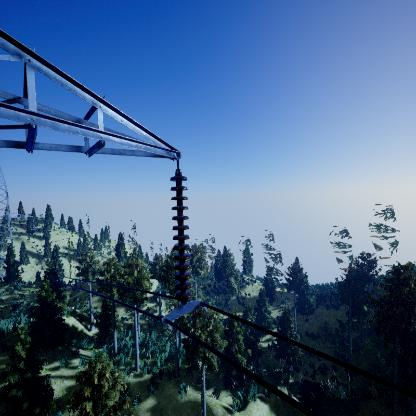insulator: (168, 172, 196, 304)
